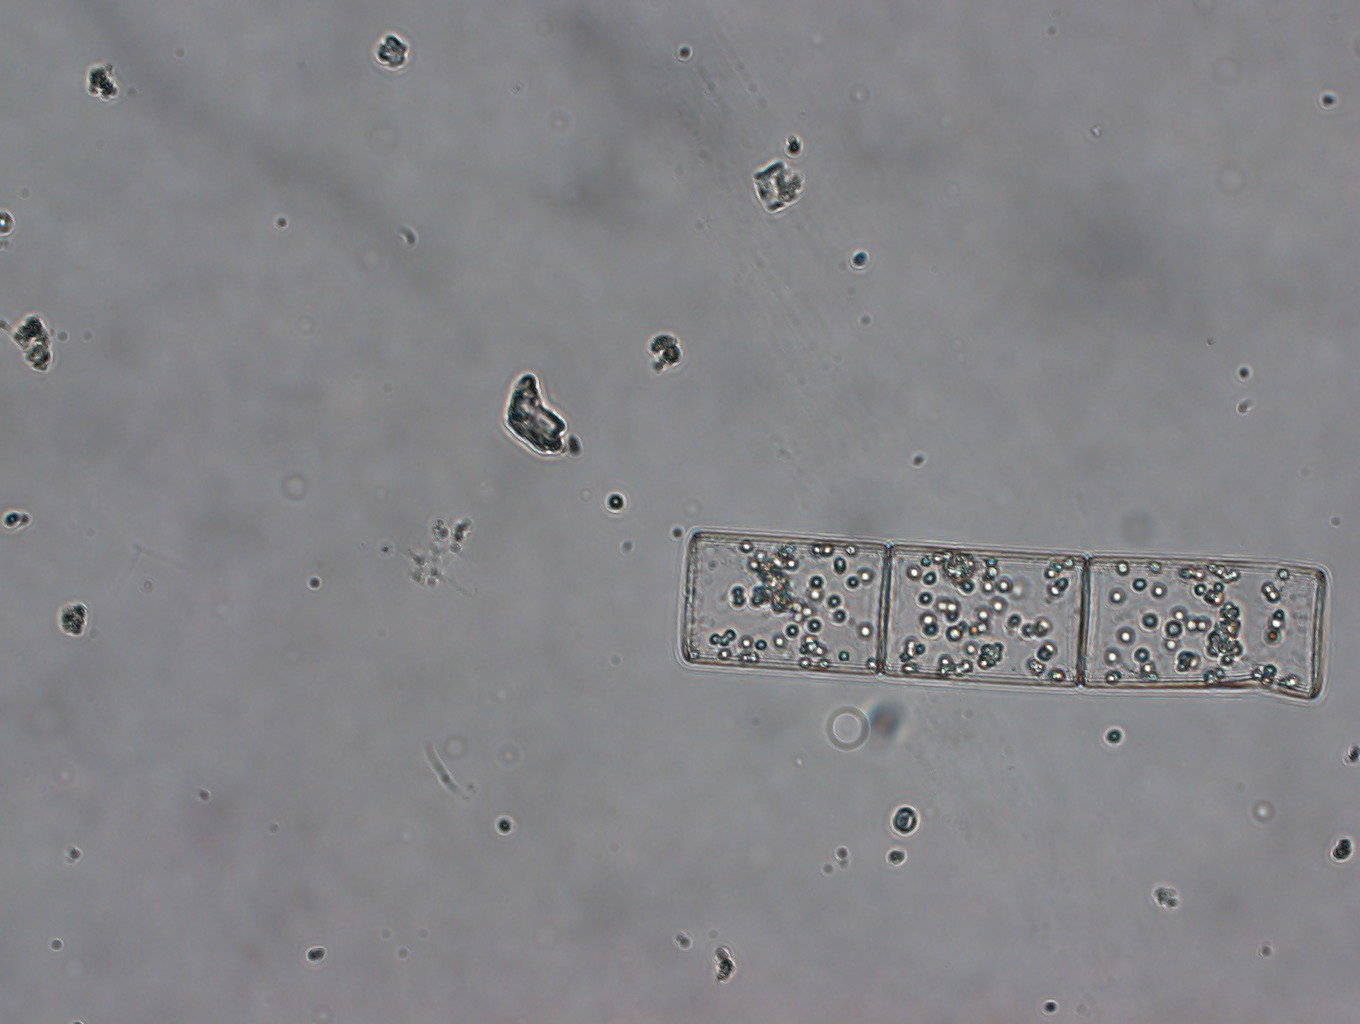guinardia flaccida: (665, 509, 1333, 712)
